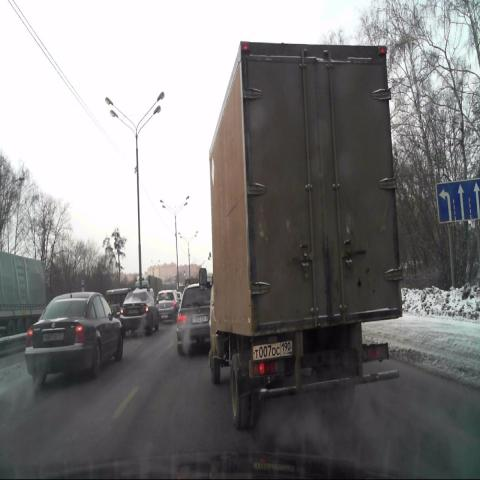5_15_1: (436, 178, 480, 225)
